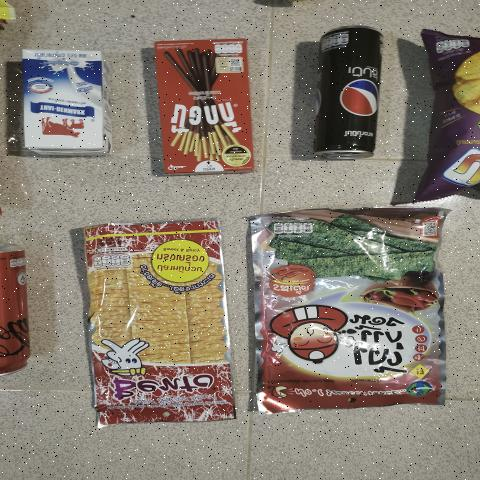bento_red: (89, 225, 224, 425)
coke_red: (0, 248, 25, 375)
pepsi_black: (315, 25, 391, 163)
pokki: (164, 38, 249, 174)
taokaenoi: (272, 210, 440, 409)
thai_denmark: (23, 50, 112, 154)
